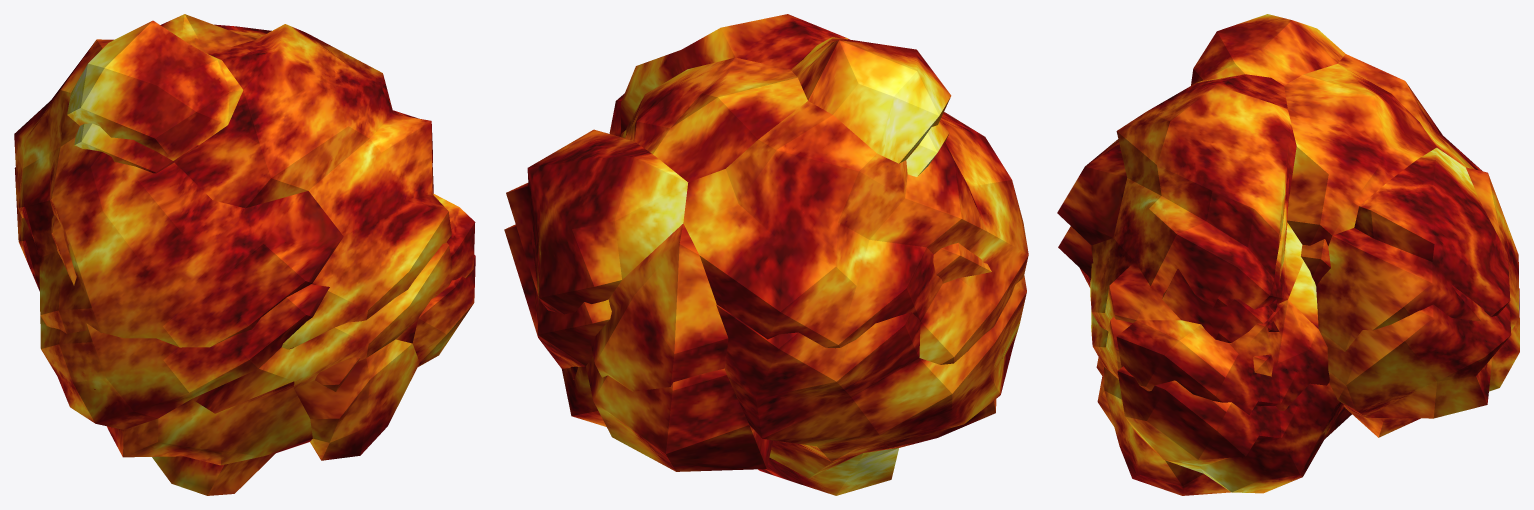
Rendered from Effect_1011skillfire #0317054.fbx.
3 renders of one model, left to right at view 1: azimuth 30°, elevation 25°; view 2: azimuth 150°, elevation 25°; view 3: azimuth 270°, elevation 25°, orthographic. The views are drawn at different scales.
Visible parts, largest first — view 1: maincity_st001 (×2); view 2: maincity_st001 (×2); view 3: maincity_st001 (×2).
Part boxes in pixels (<box>): maincity_st001 (×2): <box>14,14,475,495</box>; maincity_st001 (×2): <box>504,14,1028,495</box>; maincity_st001 (×2): <box>1057,14,1519,495</box>.
Bounding box in the file's own units: 1.52 × 1.67 × 1.58.
Materials: 1 (1 with a texture image).
